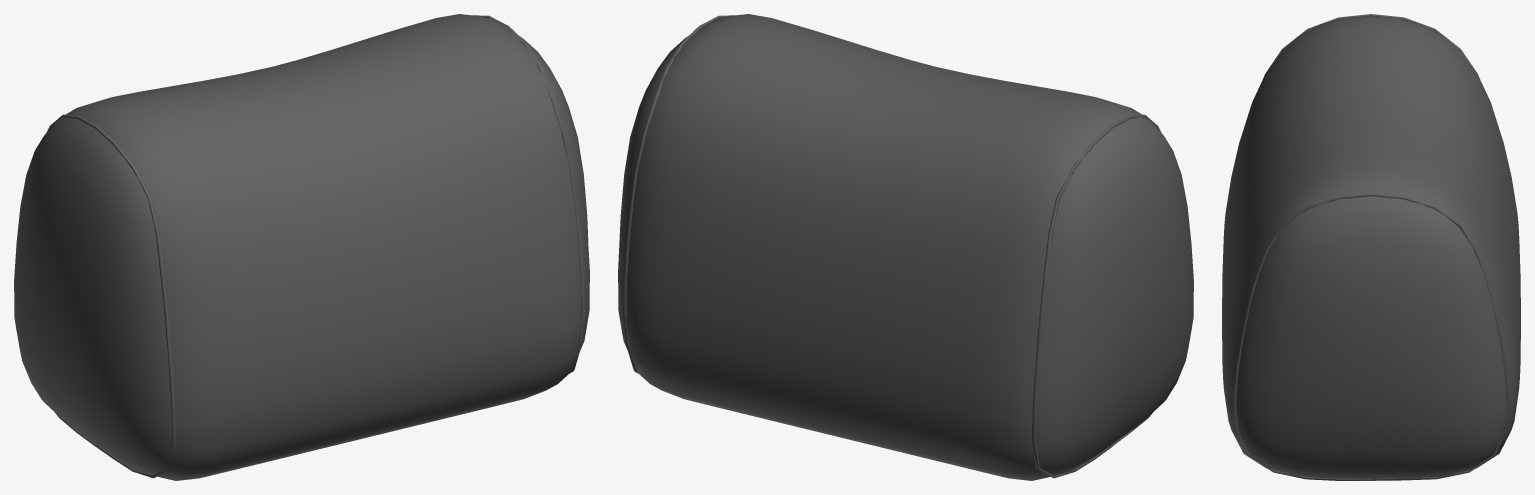
File: chair_31_02.001.fbx
3 views of the same model, side by side, from view 1: azimuth 30°, elevation 25°; view 2: azimuth 150°, elevation 25°; view 3: azimuth 270°, elevation 25° (orthographic). The views are drawn at different scales.
Visible parts, largest first — view 1: chair_31_02.001; view 2: chair_31_02.001; view 3: chair_31_02.001.
Boxes of the visible parts, <box> form: chair_31_02.001: <box>14,14,589,480</box>; chair_31_02.001: <box>618,14,1193,480</box>; chair_31_02.001: <box>1222,14,1520,480</box>.
Size of the model in its own units: 59.11 by 38.49 by 34.43.
Materials: 1 (1 with a texture image).
